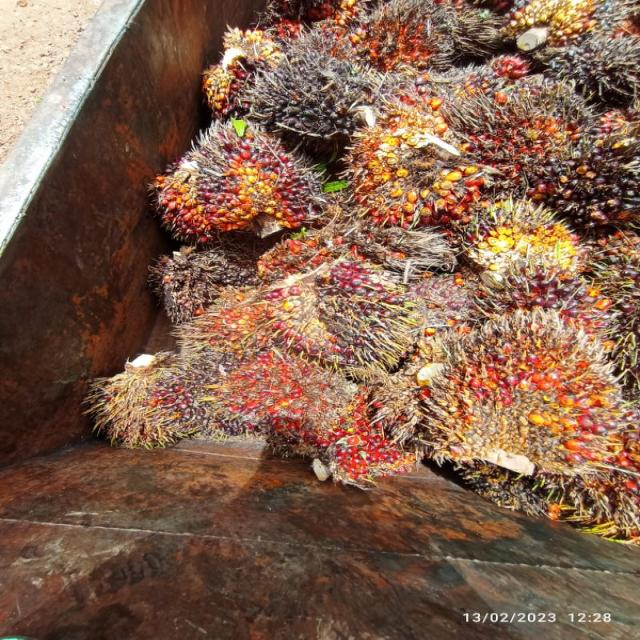fraksi 00: (438, 178, 596, 288), (245, 35, 376, 139), (540, 125, 640, 224), (542, 28, 640, 94)
fraksi 1: (150, 116, 332, 242), (335, 104, 506, 230), (253, 251, 410, 378), (77, 345, 202, 449)
fraksi 3: (413, 302, 632, 492), (218, 334, 338, 436), (309, 406, 415, 488)
fraksi 4: (434, 90, 578, 182), (345, 0, 458, 81), (185, 284, 281, 360)
